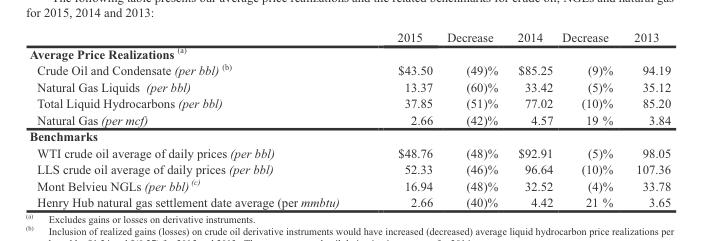table: (28, 28, 670, 209)
table column: (28, 28, 367, 209), (367, 28, 439, 209), (439, 28, 507, 209), (556, 28, 622, 209), (507, 28, 556, 209), (622, 28, 670, 209)
table column header: (28, 28, 670, 44)
table projected row header: (28, 44, 670, 60), (28, 127, 670, 143)
table row: (28, 60, 670, 78), (28, 110, 670, 127), (28, 143, 670, 160), (28, 176, 670, 193), (28, 28, 670, 44), (28, 44, 670, 60), (28, 78, 670, 94), (28, 94, 670, 110), (28, 127, 670, 143), (28, 160, 670, 176), (28, 193, 670, 209)
